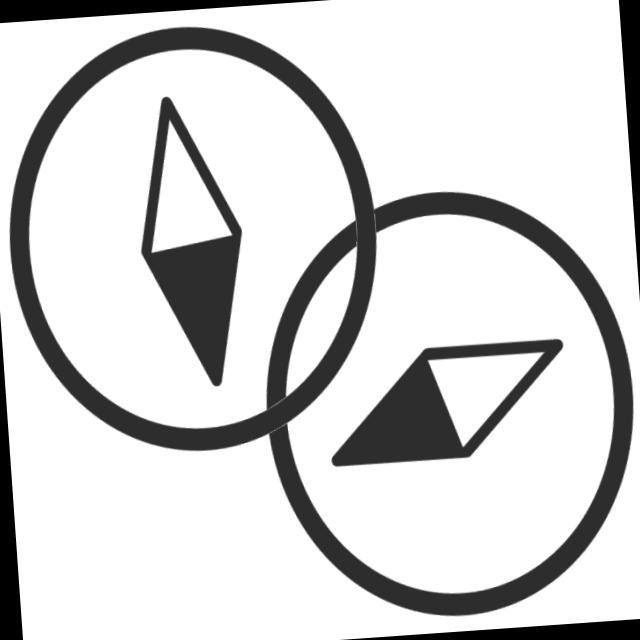compass: (240, 168, 640, 640), (1, 4, 402, 470)
